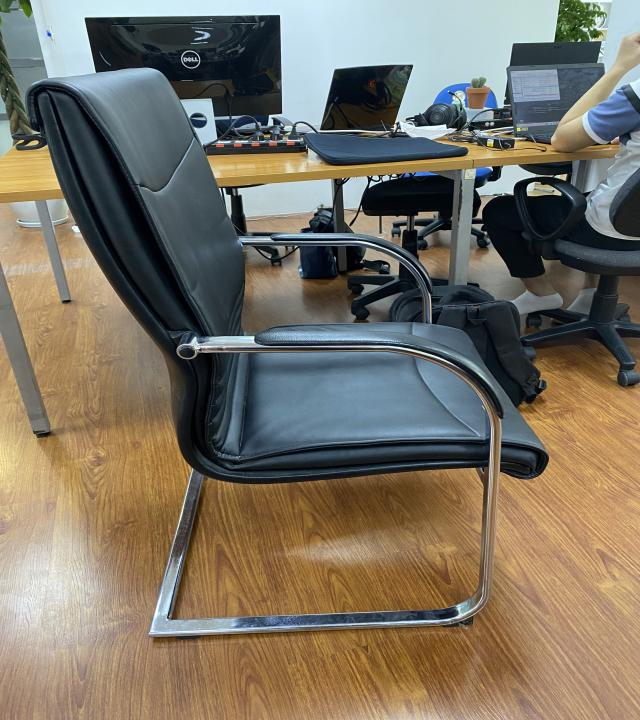SS_03: (20, 63, 553, 642)
